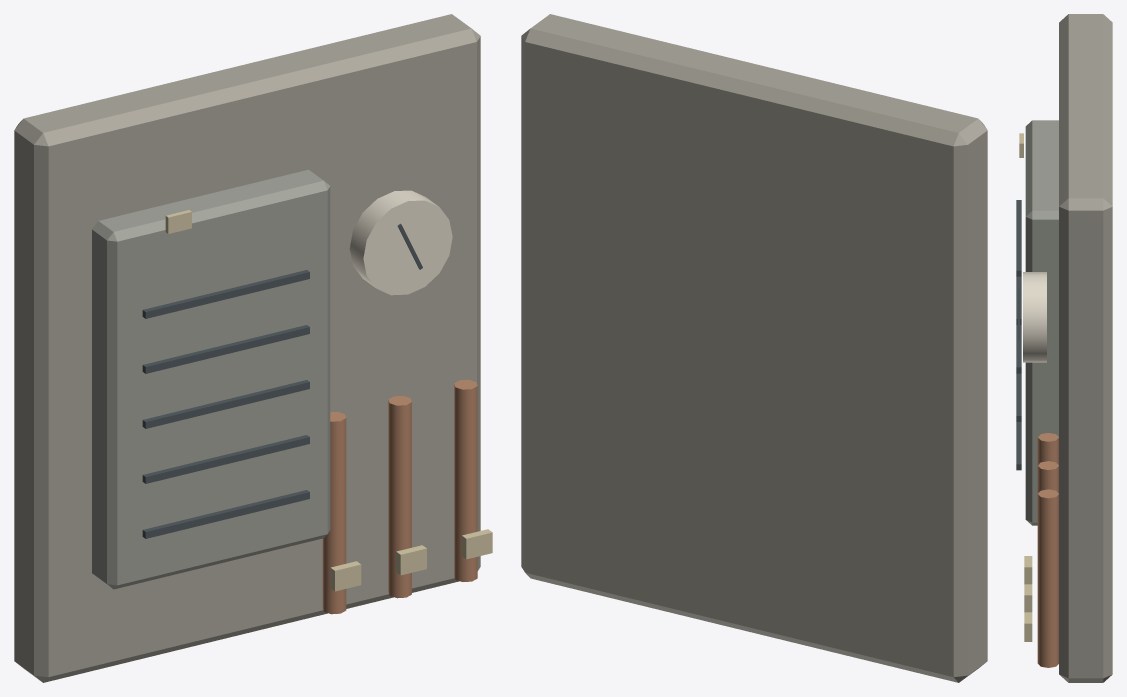
File: waste_relay_panel.glb
3 views of the same model, side by side, from view 1: azimuth 30°, elevation 25°; view 2: azimuth 150°, elevation 25°; view 3: azimuth 270°, elevation 25° (orthographic). The views are drawn at different scales.
Parts seen in each view (by area): view 1: concrete, duststeel, bone, rust.001, rust.002, rust, blacksteel.004, blacksteel.003, blacksteel, blacksteel.001, blacksteel.002, paint (+2 smaller); view 2: concrete; view 3: concrete, duststeel, rust.002, bone, rust.001, rust, blacksteel.004, blacksteel, blacksteel.001, paint.002, blacksteel.002, paint (+2 smaller).
Boxes of the visible parts, box(x1,y1,x2,y2) form: concrete: box(14, 14, 480, 682); duststeel: box(92, 169, 330, 589); bone: box(349, 190, 452, 295); rust.001: box(388, 396, 411, 598); rust.002: box(454, 379, 477, 581); rust: box(322, 412, 346, 614); blacksteel.004: box(142, 270, 309, 318); blacksteel.003: box(142, 325, 309, 373); blacksteel: box(142, 490, 309, 538); blacksteel.001: box(142, 435, 309, 483); blacksteel.002: box(142, 380, 309, 428); paint: box(330, 561, 361, 591); concrete: box(521, 14, 987, 682); concrete: box(1059, 14, 1112, 682); duststeel: box(1025, 120, 1058, 525); rust.002: box(1037, 489, 1058, 667); bone: box(1023, 272, 1046, 362); rust.001: box(1037, 461, 1058, 493); rust: box(1037, 433, 1058, 465); blacksteel.004: box(1016, 200, 1021, 276); blacksteel: box(1016, 422, 1021, 470); blacksteel.001: box(1016, 373, 1021, 421); paint.002: box(1024, 612, 1032, 641); blacksteel.002: box(1016, 325, 1021, 373); paint: box(1024, 556, 1032, 584).
Size of the model in its own units: 3.4 by 4 by 0.72.
